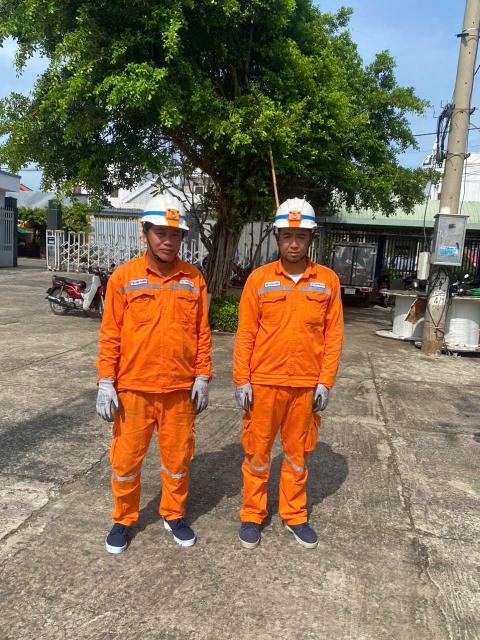gloves: (86, 362, 128, 432), (305, 372, 351, 432), (181, 365, 224, 418), (231, 367, 260, 423)
helmet: (267, 189, 335, 244), (127, 192, 196, 241)
shoes: (276, 503, 329, 562), (102, 500, 144, 572), (163, 507, 215, 554), (225, 509, 268, 565)
